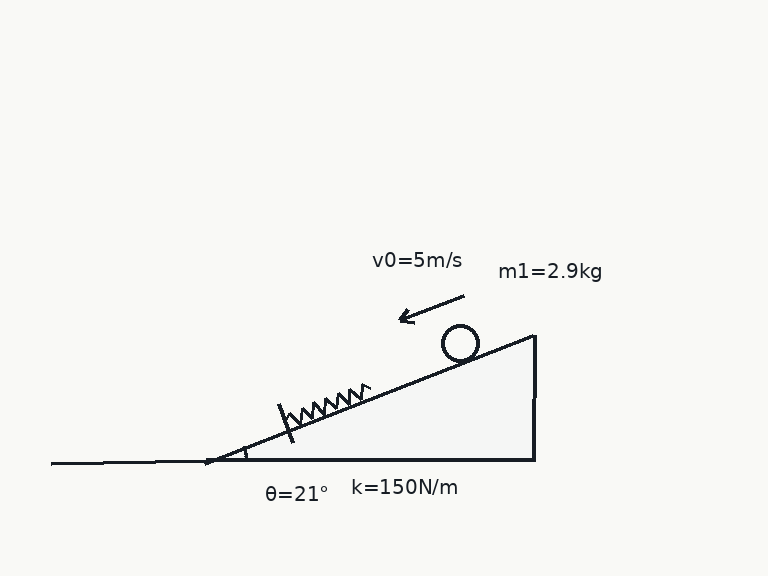ball: (439, 322, 481, 364)
ramp: (204, 333, 537, 463)
spring: (283, 382, 372, 425)
